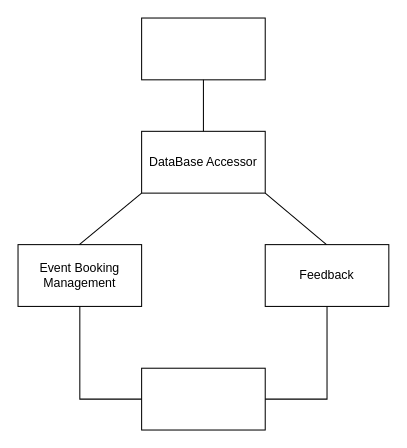
Image size: 407x448. Some labels were removed from this diagram. The shapes that lost their labels are listed below. From the top down, each one's centre as x and y in pixels, then its label:
At (203,48): "M.A Organizers".
At (203,398): "Event Management".
